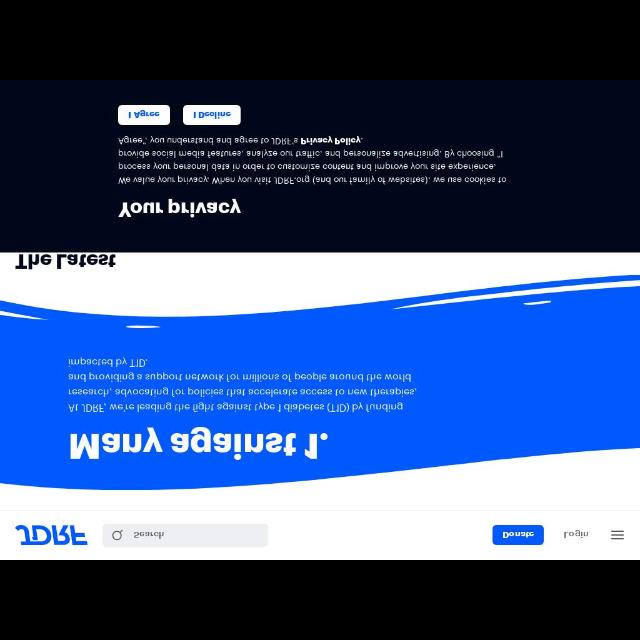icon: (611, 529, 625, 539), (112, 529, 124, 539)
image: (15, 524, 87, 546)
input: (103, 524, 269, 546)
text: (68, 356, 416, 412), (118, 135, 506, 185), (68, 428, 328, 460), (118, 198, 242, 218), (14, 254, 116, 270), (502, 530, 534, 538), (128, 110, 160, 118), (193, 112, 230, 118), (564, 530, 588, 538), (134, 532, 164, 538)
textbutton: (183, 104, 241, 126), (118, 104, 170, 126), (494, 525, 544, 545)
toolbar: (1, 512, 640, 560)
